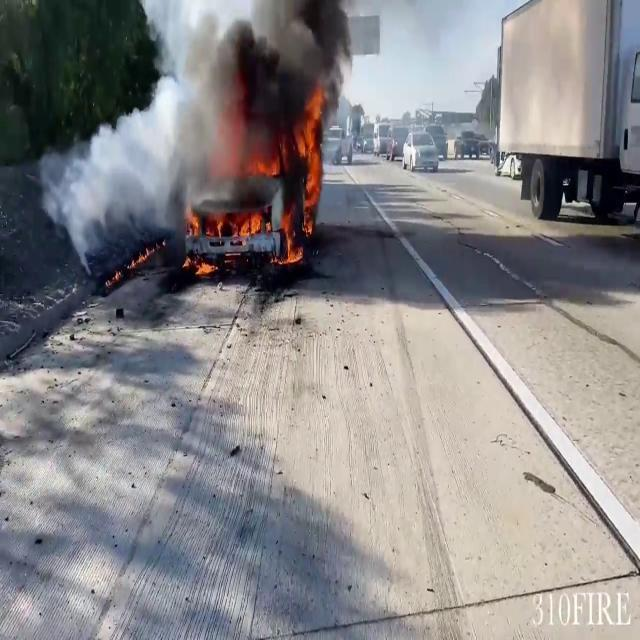Fire: (290, 84, 330, 242), (181, 198, 262, 276), (276, 205, 304, 268)
Smoke: (44, 6, 348, 230)
